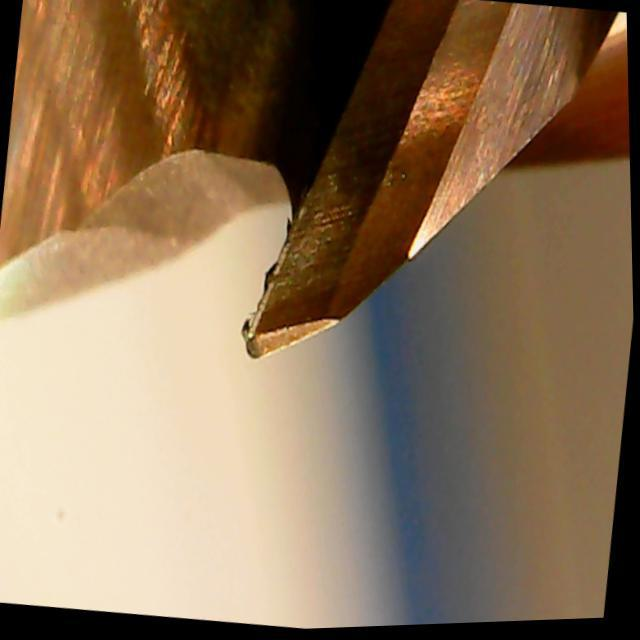Tool-wear-class-1: (226, 82, 454, 395)
